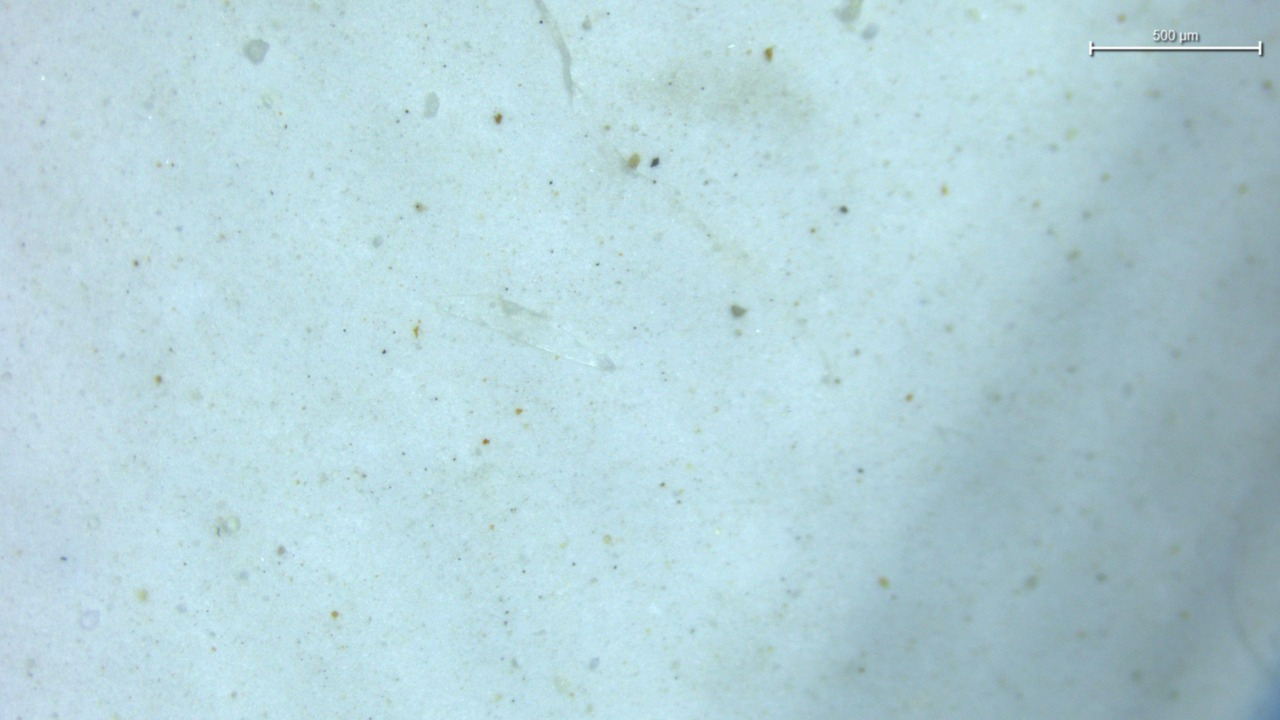microplastic_fragment: (434, 296, 615, 371)
